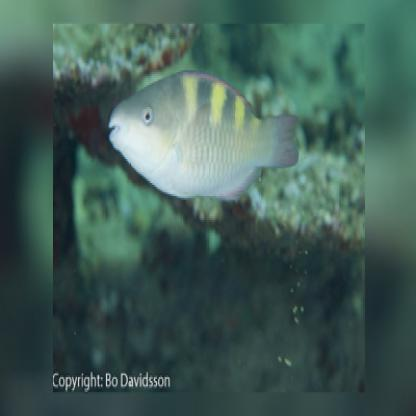Scaridae -Parrotfishes-: (105, 62, 302, 210)
